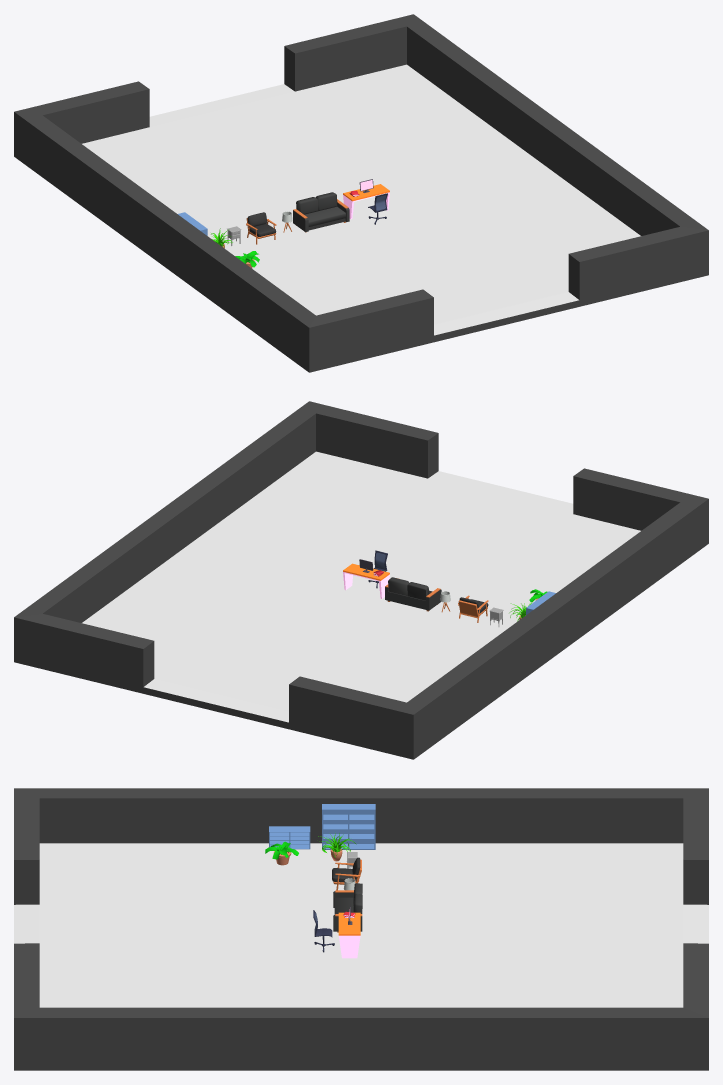
The model's file is Platform 1.fbx.
3 renders of one model, top to bottom at view 1: azimuth 30°, elevation 25°; view 2: azimuth 150°, elevation 25°; view 3: azimuth 270°, elevation 25°, orthographic. The views are drawn at different scales.
Parts seen in each view (by area): view 1: Platform, Seat, Chair, masa; view 2: Platform, Seat, masa; view 3: Platform, Kitaplık.001, masa, Seat, Kitaplık, Chair.
Boxes of the visible parts, x1,y1,x2,y2 form: Platform: (14, 14, 708, 372); Seat: (293, 192, 349, 232); Chair: (246, 212, 276, 244); masa: (343, 184, 389, 219); Platform: (14, 401, 708, 759); Seat: (385, 577, 441, 611); masa: (343, 563, 389, 598); Platform: (14, 788, 708, 1070); Kitaplık.001: (322, 804, 375, 849); masa: (338, 912, 360, 958); Seat: (333, 883, 362, 932); Kitaplık: (269, 826, 310, 849); Chair: (332, 857, 361, 890).
Size of the model in its own units: 33413 by 3604 by 42757.
